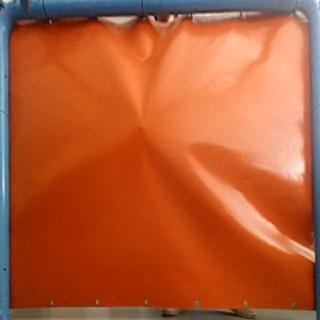Hit-hRxx: (135, 118, 150, 136)
